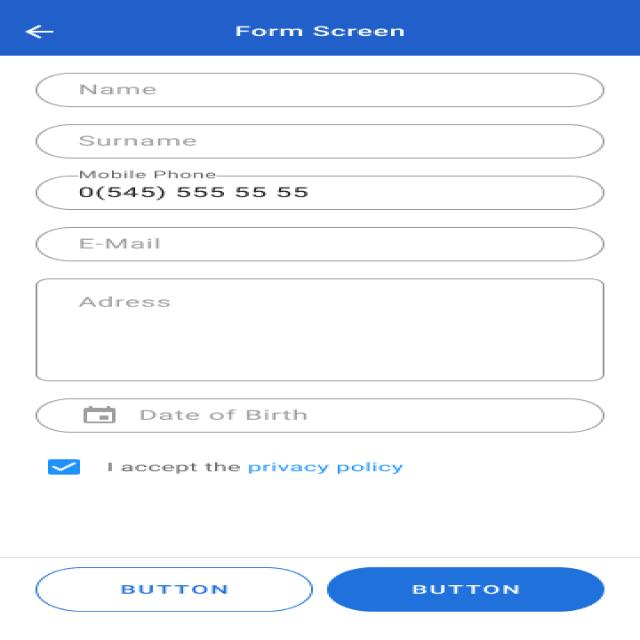QLabel: (231, 24, 406, 40), (409, 584, 521, 596), (115, 584, 231, 595)
VAppBar: (0, 0, 640, 56)
VBtn: (34, 566, 314, 614), (326, 566, 605, 612)
VCheckbox: (38, 458, 406, 477)
VFooter: (0, 557, 640, 640)
VIcon: (23, 23, 58, 40)
VInlineDatepicker: (34, 397, 606, 433)
VTextField: (35, 170, 606, 211), (35, 225, 606, 263), (34, 72, 605, 109), (32, 123, 605, 159)
VTextarea: (34, 277, 607, 383)
